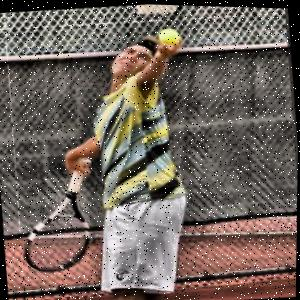Tennis_Ball: (158, 27, 180, 44)
